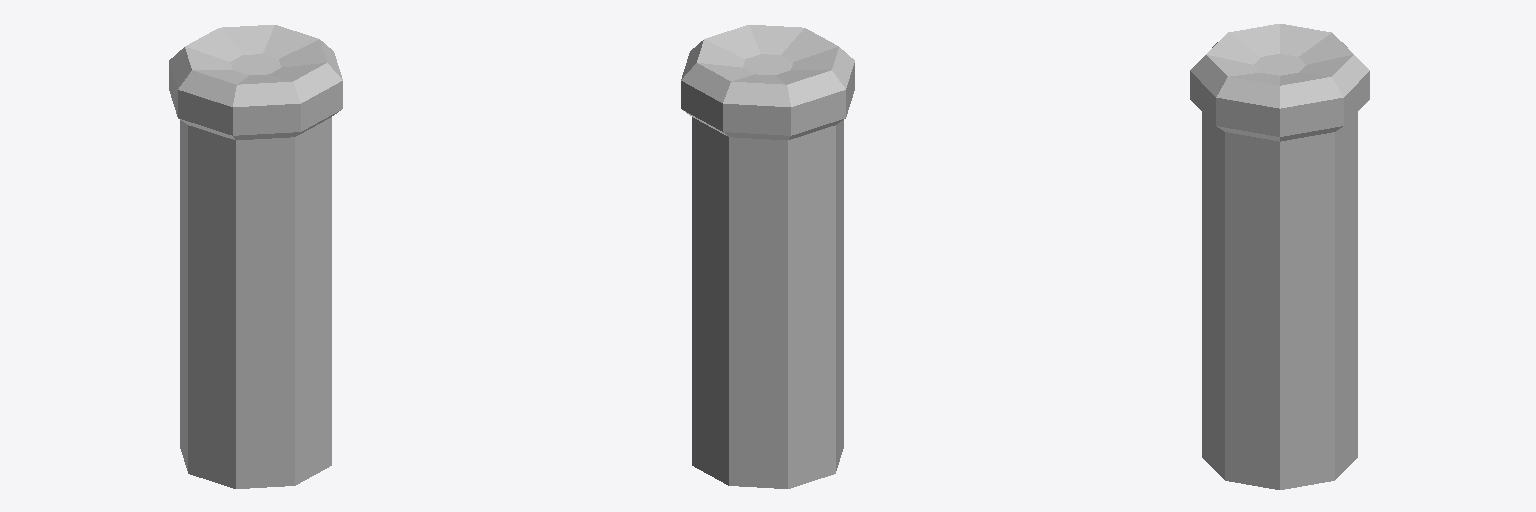
Rendered from vela.obj.
3 renders of one model, left to right at view 1: azimuth 30°, elevation 25°; view 2: azimuth 150°, elevation 25°; view 3: azimuth 270°, elevation 25°, orthographic.
Parts seen in each view (by area): view 1: Circle.001; view 2: Circle.001; view 3: Circle.001.
Part boxes in pixels (bbox=[...]): Circle.001: bbox=[169, 25, 342, 488]; Circle.001: bbox=[681, 25, 854, 488]; Circle.001: bbox=[1190, 24, 1369, 489].
Bounding box in the file's own units: 2.12 × 5.22 × 2.12.